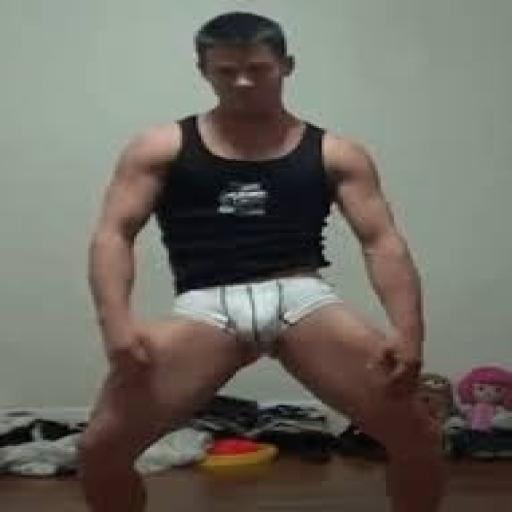dancing: (75, 10, 456, 510)
